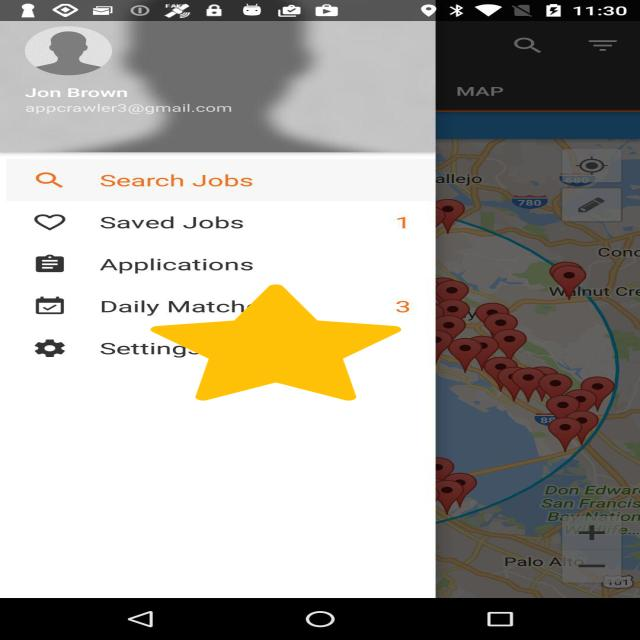forced continuity: (151, 284, 401, 401)
